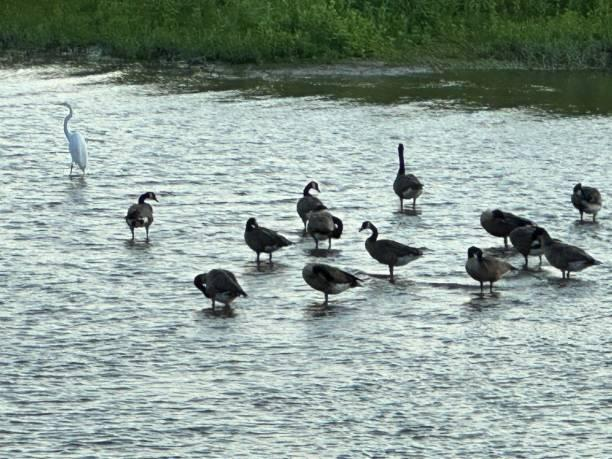Canadian-Goose: (360, 218, 421, 283), (299, 258, 364, 309), (540, 230, 600, 282), (238, 216, 291, 267), (386, 141, 424, 211), (191, 267, 248, 311), (465, 241, 511, 293), (121, 189, 164, 239), (479, 202, 531, 239), (568, 180, 607, 221), (512, 222, 548, 266), (304, 210, 345, 248), (292, 182, 328, 214)
